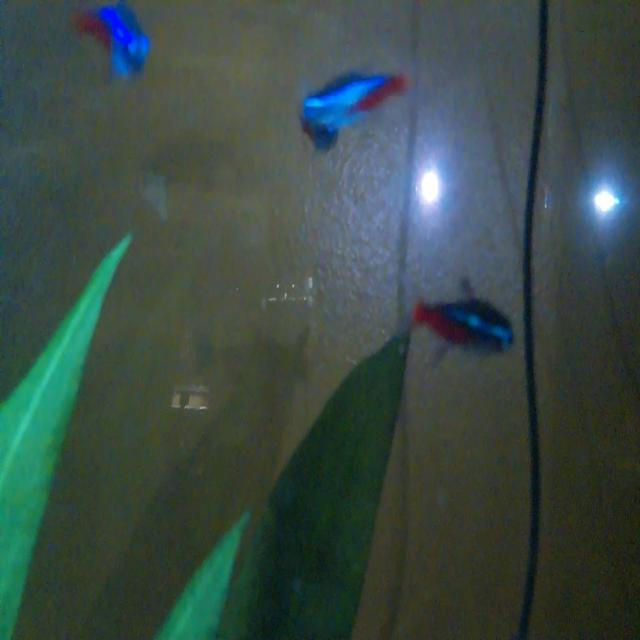fish: (287, 56, 417, 157), (404, 268, 520, 379)
